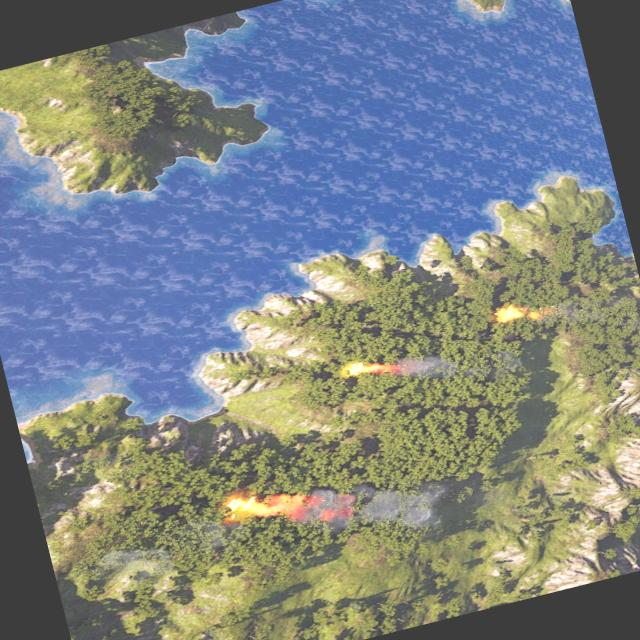fire: (219, 479, 308, 535), (494, 296, 540, 326), (342, 354, 384, 380)
smoke: (294, 448, 464, 554), (376, 347, 451, 391)
